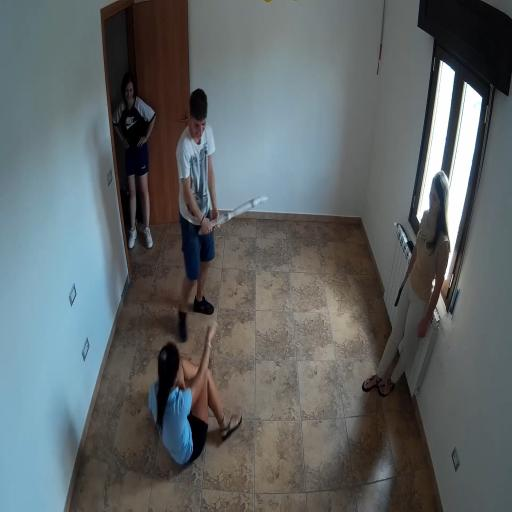violencia: (133, 68, 278, 476)
